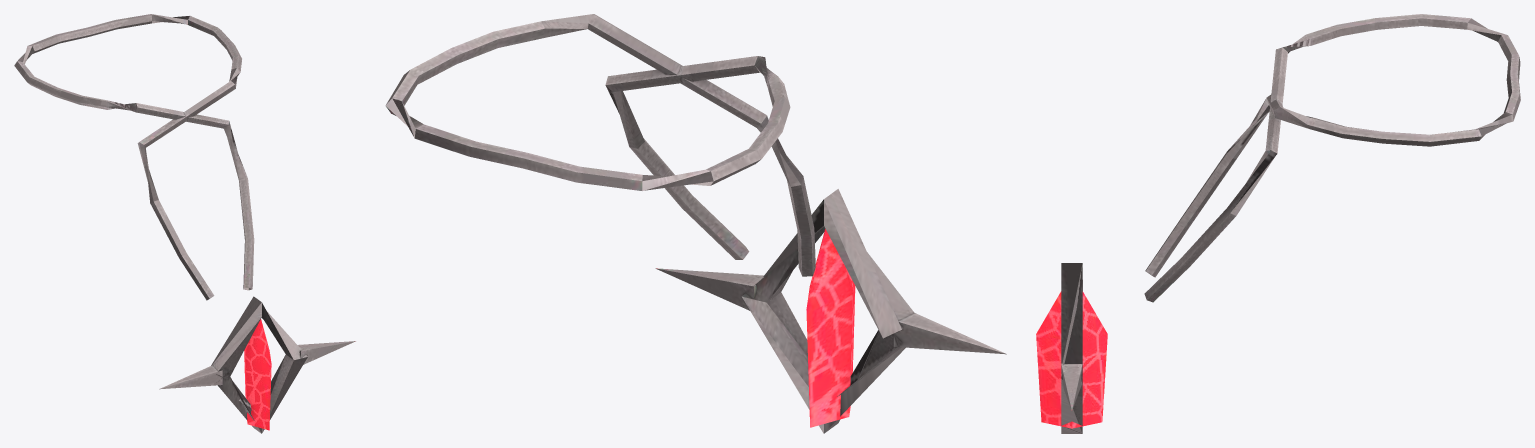
File: Amuleto_de_Rubi_de_Batalha_nivel50.glb
3 views of the same model, side by side, from view 1: azimuth 30°, elevation 25°; view 2: azimuth 150°, elevation 25°; view 3: azimuth 270°, elevation 25° (orthographic). The views are drawn at different scales.
Visible parts, largest first — view 1: amuleto_de_rubi_de_batalha_nivel50; view 2: amuleto_de_rubi_de_batalha_nivel50; view 3: amuleto_de_rubi_de_batalha_nivel50.
Boxes of the visible parts, bbox=[...] form: amuleto_de_rubi_de_batalha_nivel50: bbox=[14, 14, 355, 433]; amuleto_de_rubi_de_batalha_nivel50: bbox=[385, 14, 1006, 433]; amuleto_de_rubi_de_batalha_nivel50: bbox=[1036, 14, 1520, 433].
Size of the model in its own units: 0.1609 by 0.2134 by 0.2595.
1 material, 1 textured.
